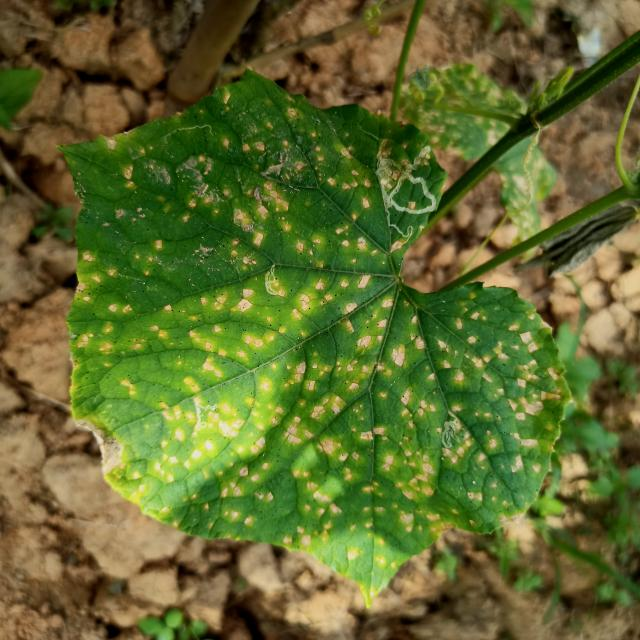disease_cucumber: (84, 132, 544, 566)
